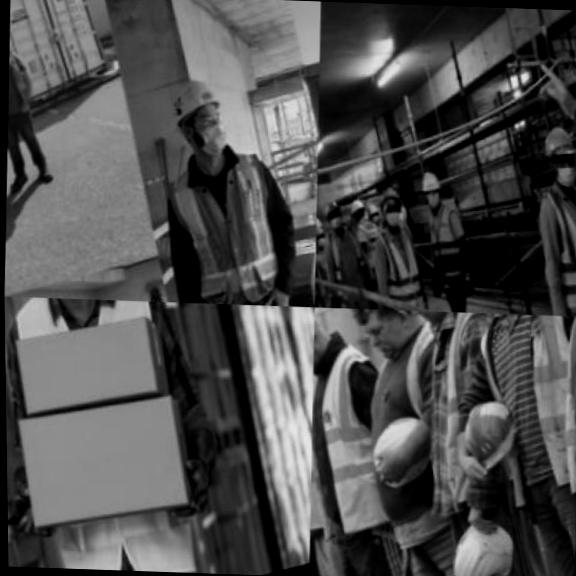safety_vest: (4, 296, 226, 573), (397, 310, 551, 528), (151, 142, 306, 306), (462, 312, 576, 523), (306, 336, 416, 550), (422, 206, 481, 300), (376, 222, 439, 310), (536, 179, 576, 314), (318, 216, 380, 300), (308, 382, 336, 538), (7, 49, 44, 124), (356, 216, 388, 270)
